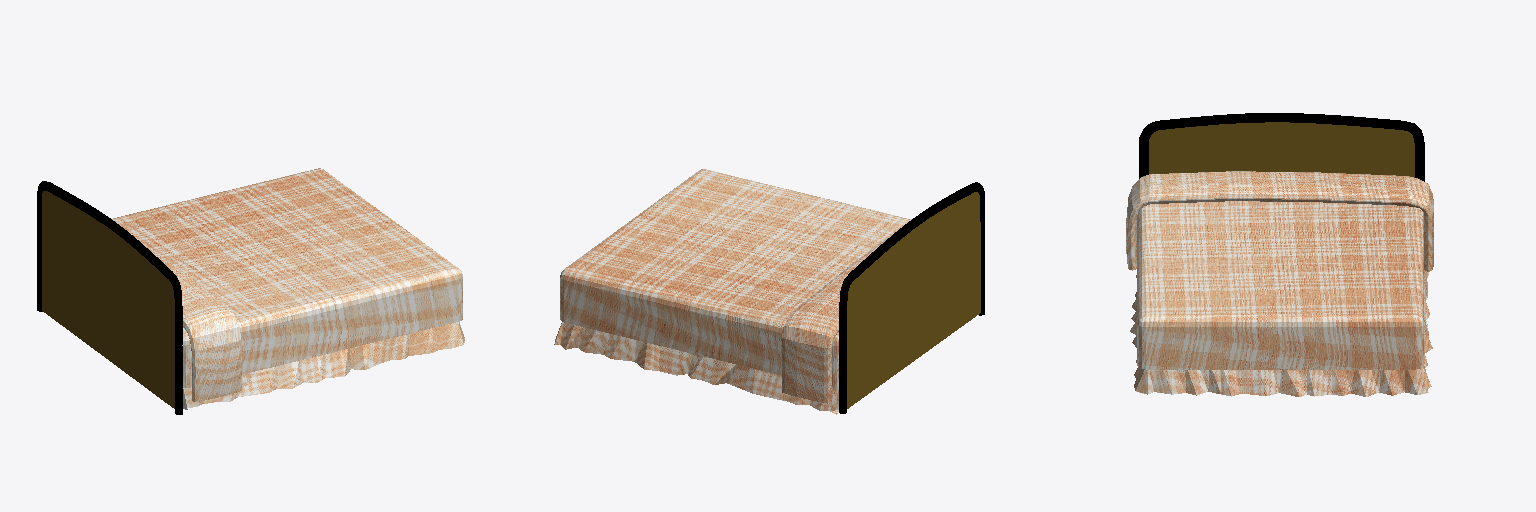
The picture shows the model from 3 angles: view 1: azimuth 30°, elevation 25°; view 2: azimuth 150°, elevation 25°; view 3: azimuth 270°, elevation 25°; orthographic projection.
Parts seen in each view (by area): view 1: ChamferBox_ChamferBox.001, Line02, QuadPatch0, Loft03, Loft01_Loft01.001; view 2: ChamferBox_ChamferBox.001, Line02, QuadPatch0, Loft03, Loft01_Loft01.001; view 3: ChamferBox_ChamferBox.001, Line02, Loft03, QuadPatch0, Loft01_Loft01.001.
Part boxes in pixels (bbox=[...]): ChamferBox_ChamferBox.001: bbox=[112, 168, 462, 387]; Line02: bbox=[42, 191, 174, 408]; QuadPatch0: bbox=[183, 322, 464, 409]; Loft03: bbox=[143, 244, 241, 401]; Loft01_Loft01.001: bbox=[37, 181, 182, 414]; ChamferBox_ChamferBox.001: bbox=[560, 169, 911, 388]; Line02: bbox=[847, 192, 980, 408]; QuadPatch0: bbox=[554, 322, 838, 414]; Loft03: bbox=[782, 236, 890, 403]; Loft01_Loft01.001: bbox=[839, 182, 984, 413]; ChamferBox_ChamferBox.001: bbox=[1137, 201, 1423, 369]; Line02: bbox=[1149, 122, 1414, 177]; Loft03: bbox=[1126, 171, 1433, 271]; QuadPatch0: bbox=[1130, 270, 1432, 396]; Loft01_Loft01.001: bbox=[1139, 113, 1424, 181].
Size of the model in its own units: 2.08 by 0.9652 by 1.87.
4 materials, 1 textured.